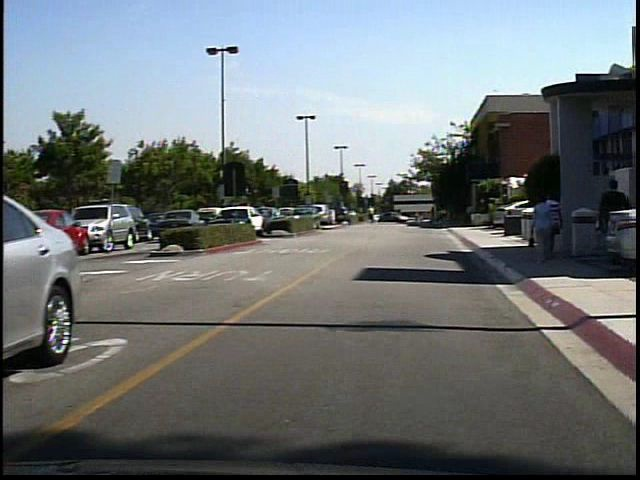person: (538, 190, 566, 266), (601, 170, 636, 213), (552, 189, 571, 261), (373, 202, 383, 226)
